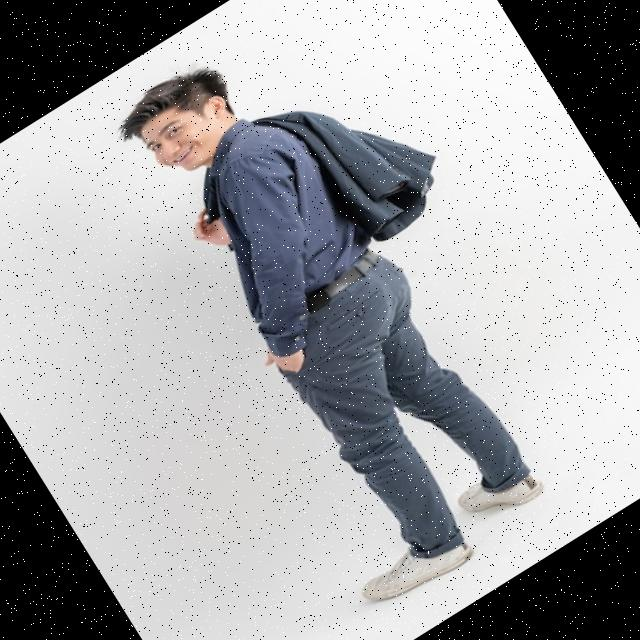Person: (75, 0, 626, 618)
